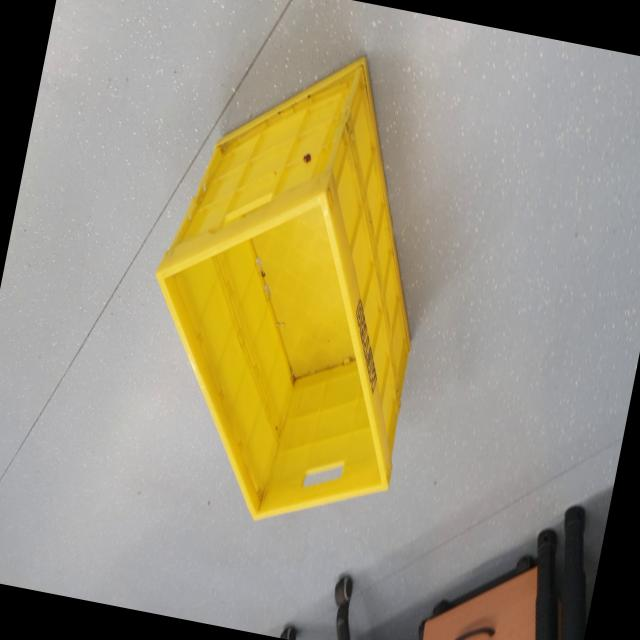box: (109, 16, 480, 562)
